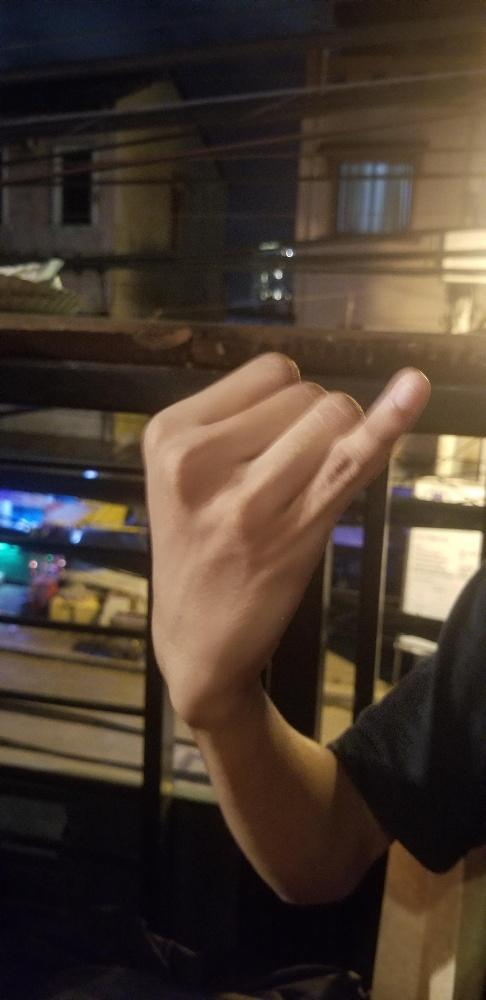j: (139, 348, 430, 691)
